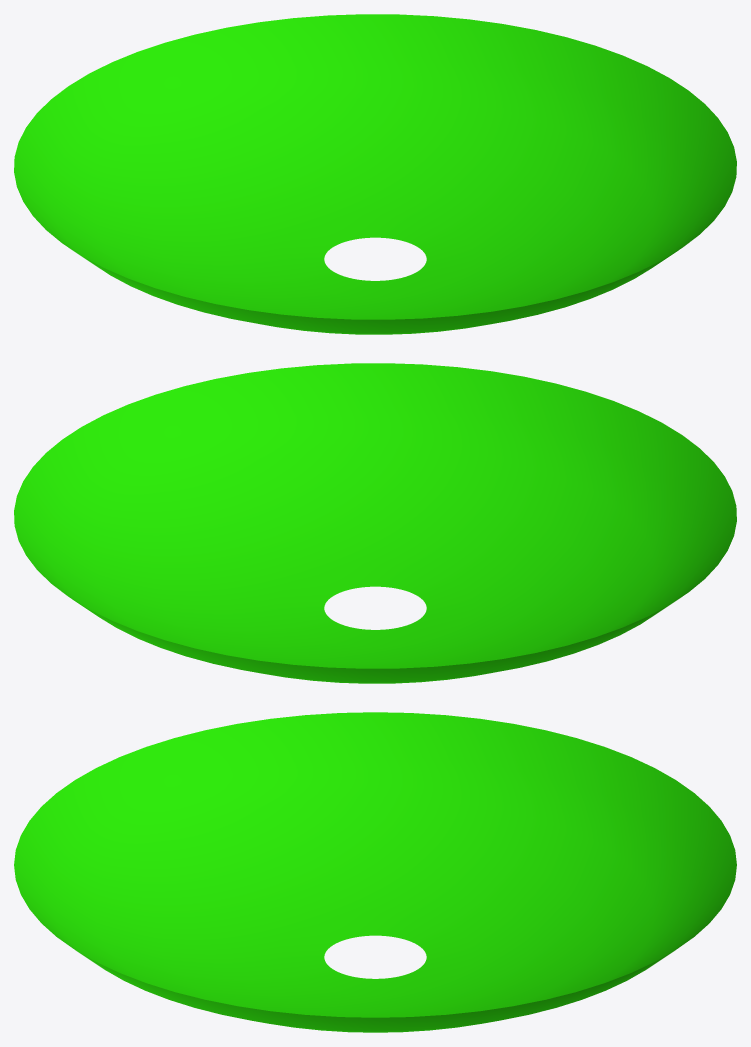
Rendered from p_mesh_trashbot_windpushroar_groundgoo01_pose1.fbx.
The picture shows the model from 3 angles, top to bottom: view 1: azimuth 30°, elevation 25°; view 2: azimuth 150°, elevation 25°; view 3: azimuth 270°, elevation 25°; orthographic projection.
Visible parts, largest first — view 1: goo_pose1; view 2: goo_pose1; view 3: goo_pose1.
Boxes of the visible parts, x1=… form: goo_pose1: x1=14, y1=14, x2=736, y2=334; goo_pose1: x1=14, y1=363, x2=736, y2=683; goo_pose1: x1=14, y1=712, x2=736, y2=1032.
Size of the model in its own units: 389 by 54.74 by 389.
